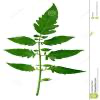Tomato leaf: (32, 4, 61, 36), (48, 47, 86, 62), (46, 64, 87, 77), (4, 60, 40, 74), (40, 35, 78, 48), (1, 47, 41, 59), (6, 34, 36, 46)
